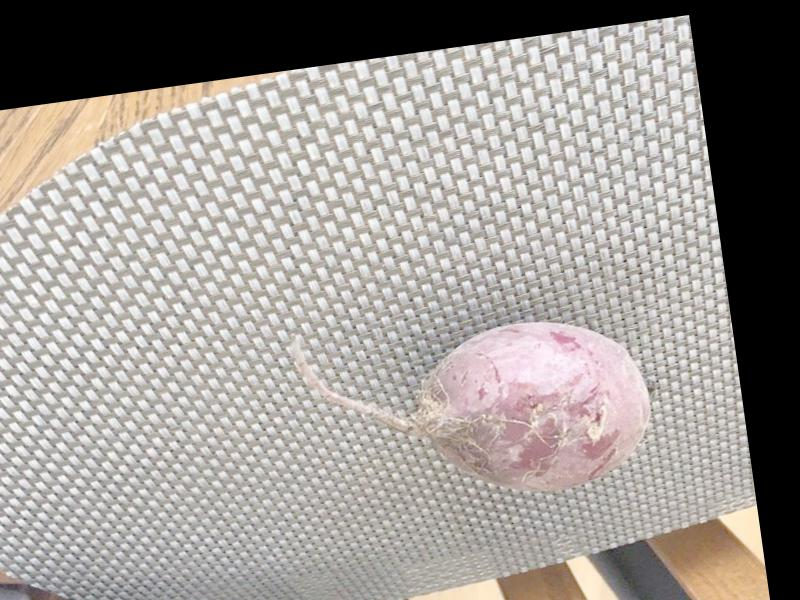Beet: (288, 288, 656, 525)
